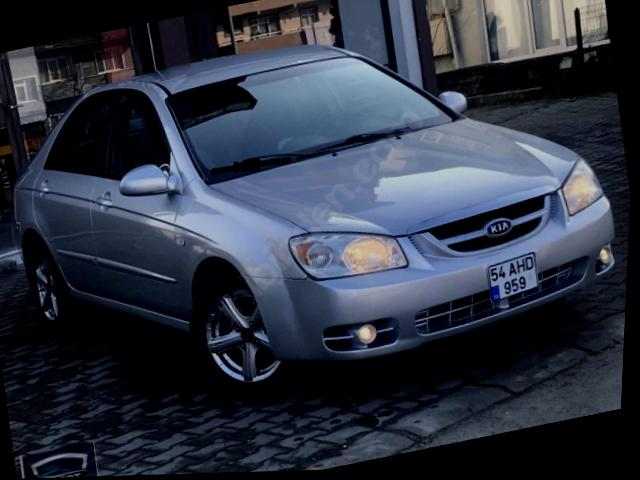plaka: (487, 252, 537, 301)
